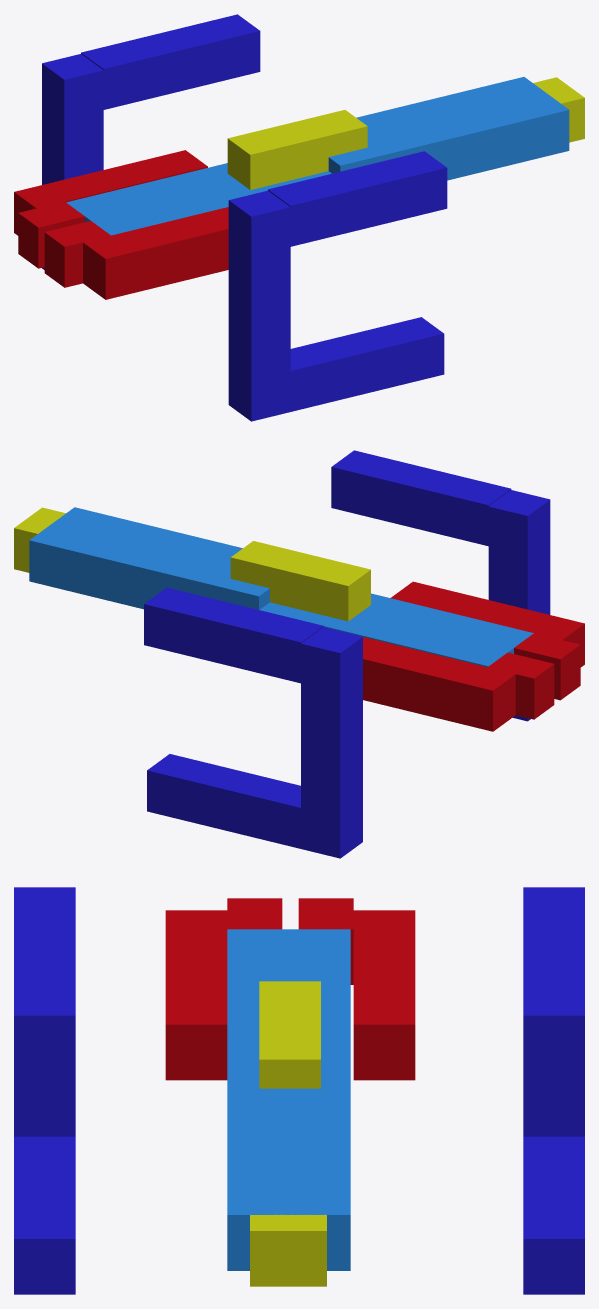
Rendered from player.fbx.
3 views of the same model, one above another, from view 1: azimuth 30°, elevation 25°; view 2: azimuth 150°, elevation 25°; view 3: azimuth 270°, elevation 25° (orthographic). The views are drawn at different scales.
Visible parts, largest first — view 1: Box021, Box022, Box025, Box020, Box024, Box007, Box008, Box003, Box002, Box013, Box005, Box004 (+6 smaller); view 2: Box024, Box022, Box025, Box023, Box013, Box021, Box007, Box003, Box002, Box005, Box004, Box008 (+7 smaller); view 3: Box022, Box025, Box013, Box008, Box020, Box023, Box003, Box007, Box002, Box005, Box021, Box024 (+8 smaller).
Boxes of the visible parts, <box> form: Box021: <box>228,190,290,421</box>; Box022: <box>268,151,447,246</box>; Box025: <box>81,14,260,109</box>; Box020: <box>290,317,444,411</box>; Box024: <box>42,54,103,269</box>; Box007: <box>227,110,367,189</box>; Box008: <box>104,207,228,294</box>; Box003: <box>449,77,569,168</box>; Box002: <box>374,95,494,180</box>; Box013: <box>35,150,207,203</box>; Box005: <box>66,184,186,235</box>; Box004: <box>142,164,258,216</box>; Box024: <box>301,627,362,858</box>; Box022: <box>331,450,511,546</box>; Box025: <box>144,587,323,683</box>; Box023: <box>147,754,300,848</box>; Box013: <box>363,637,494,726</box>; Box021: <box>488,490,550,721</box>; Box007: <box>230,541,370,621</box>; Box003: <box>29,507,152,600</box>; Box002: <box>104,525,225,609</box>; Box005: <box>410,614,533,666</box>; Box004: <box>335,595,456,648</box>; Box008: <box>390,581,563,634</box>; Box022: <box>14,911,75,1071</box>; Box025: <box>523,911,584,1071</box>; Box013: <box>353,924,415,1080</box>; Box008: <box>165,924,227,1080</box>; Box020: <box>14,1136,75,1294</box>; Box023: <box>523,1136,584,1294</box>; Box003: <box>227,1165,350,1270</box>; Box007: <box>259,981,320,1088</box>; Box002: <box>227,1113,350,1165</box>; Box005: <box>227,929,350,979</box>; Box021: <box>14,887,75,1136</box>; Box024: <box>523,887,584,1136</box>.
Bounding box in the file's own units: 135 × 50.3 × 92.66.
